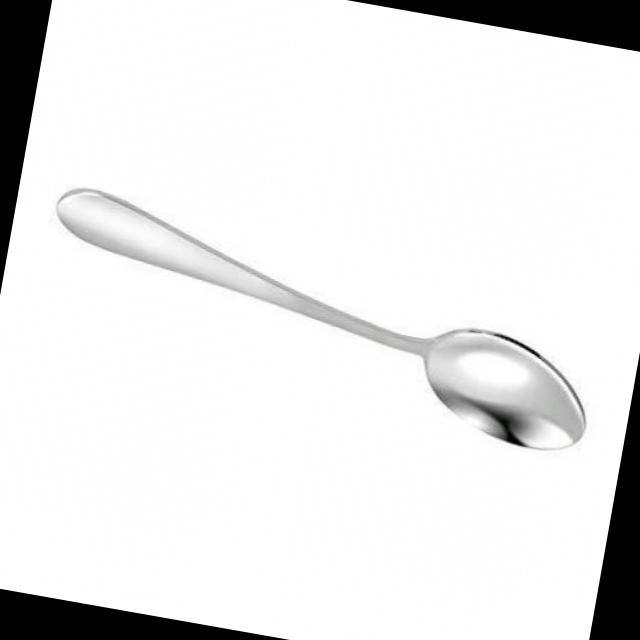spoon: (18, 151, 620, 467)
